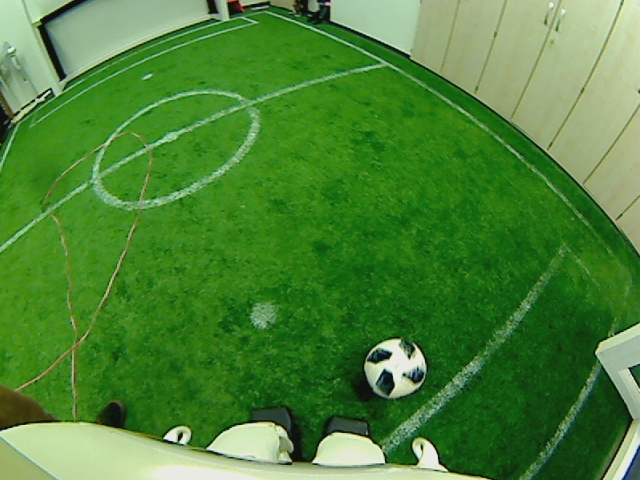ball: (362, 336, 427, 399)
